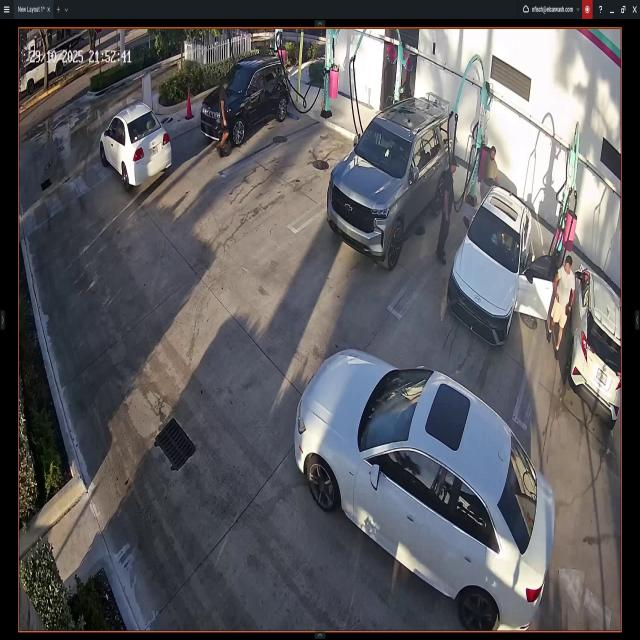Car: (290, 349, 554, 636), (328, 97, 450, 265), (450, 187, 559, 344), (572, 267, 621, 425), (198, 64, 289, 143), (100, 105, 172, 186)
